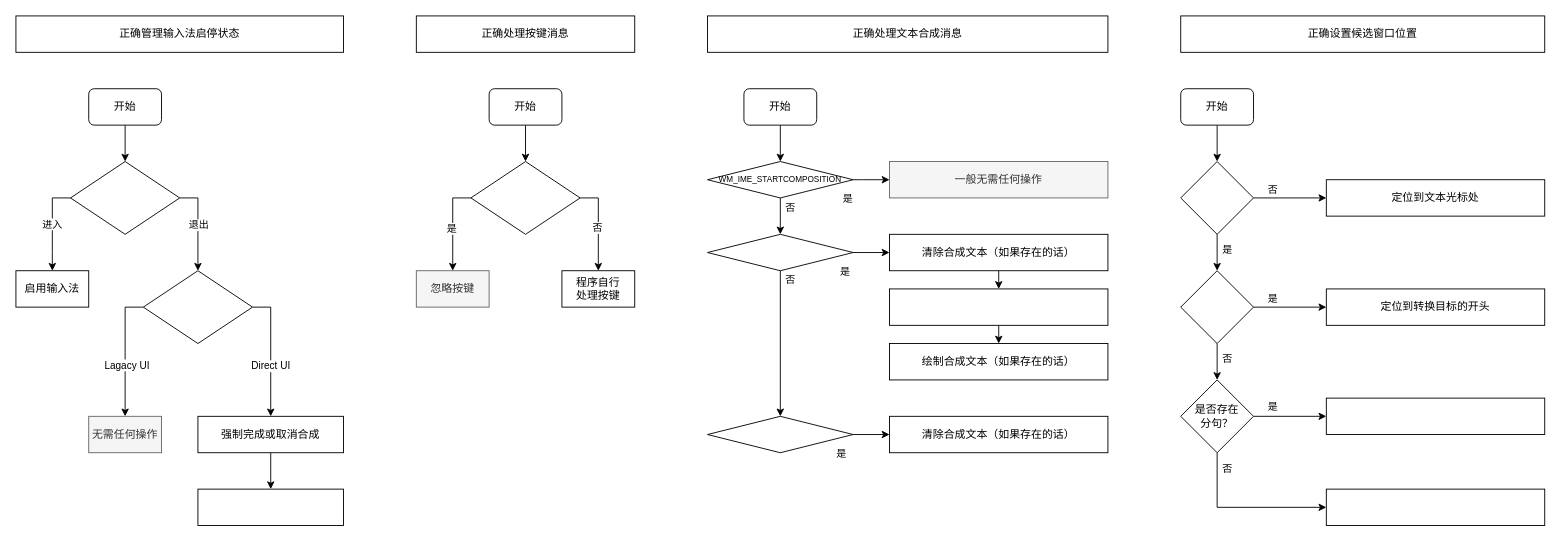
The diagram is 1561 pixels wide and 541 high, and some of its shapes have lost their labels. Each missing label, with the centre of its shape:
"Lagacy UI or Direct UI" goes at point 197,307.
"WM_IME_COMPOSITION" goes at point 780,252.
"WM_IME_ENDCOMPOSITION" goes at point 780,434.
"停用输入法" goes at point 270,507.
"定位到合成文本光标所在分句开头" goes at point 1435,416.
"定位到合成文本开头" goes at point 1435,507.
"按键是否由 IME 处理" goes at point 525,197.
"插入结果文本（如果存在的话）" goes at point 998,306.
"是否处于 合成状态？" goes at point 1217,197.
"是否存在 转换目标？" goes at point 1217,307.
"进入或退出 文本输入状态" goes at point 125,197.
